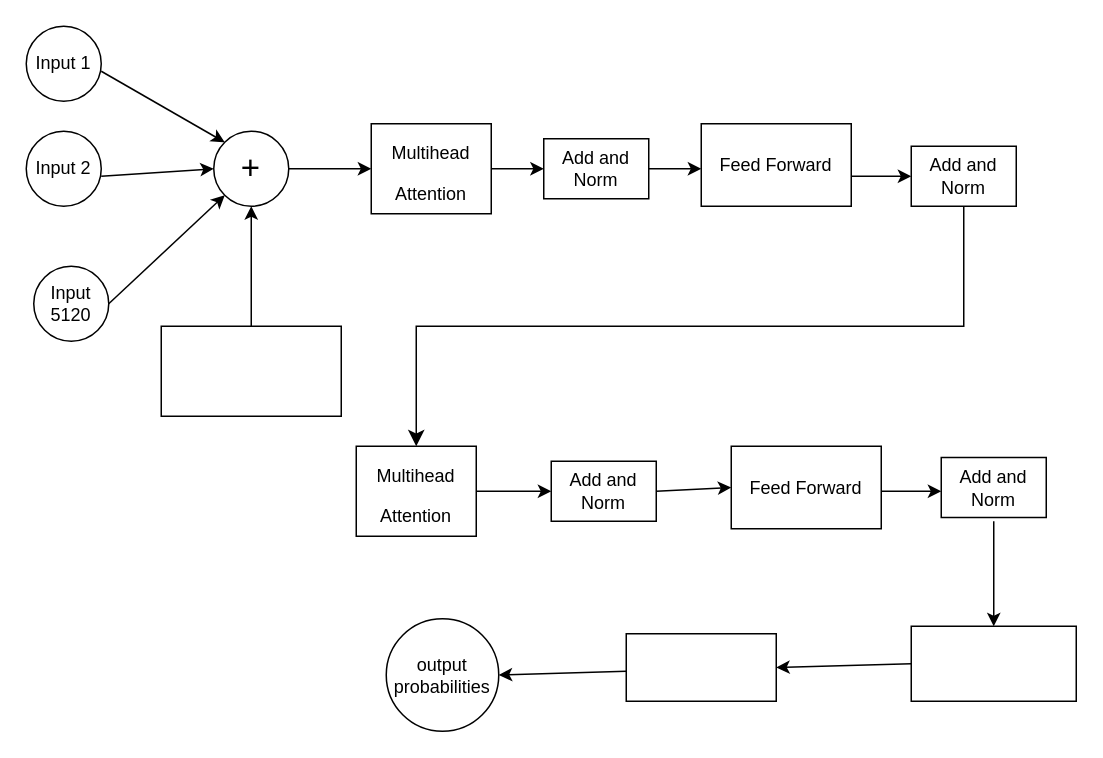
Some shapes in this 1103 by 758 pixel diagram are drawn without their labels. Each missing label, with the centre of its shape:
Linear: (x=993, y=663)
Positional Encoding: (x=250, y=370)
Softmax: (x=700, y=666)
